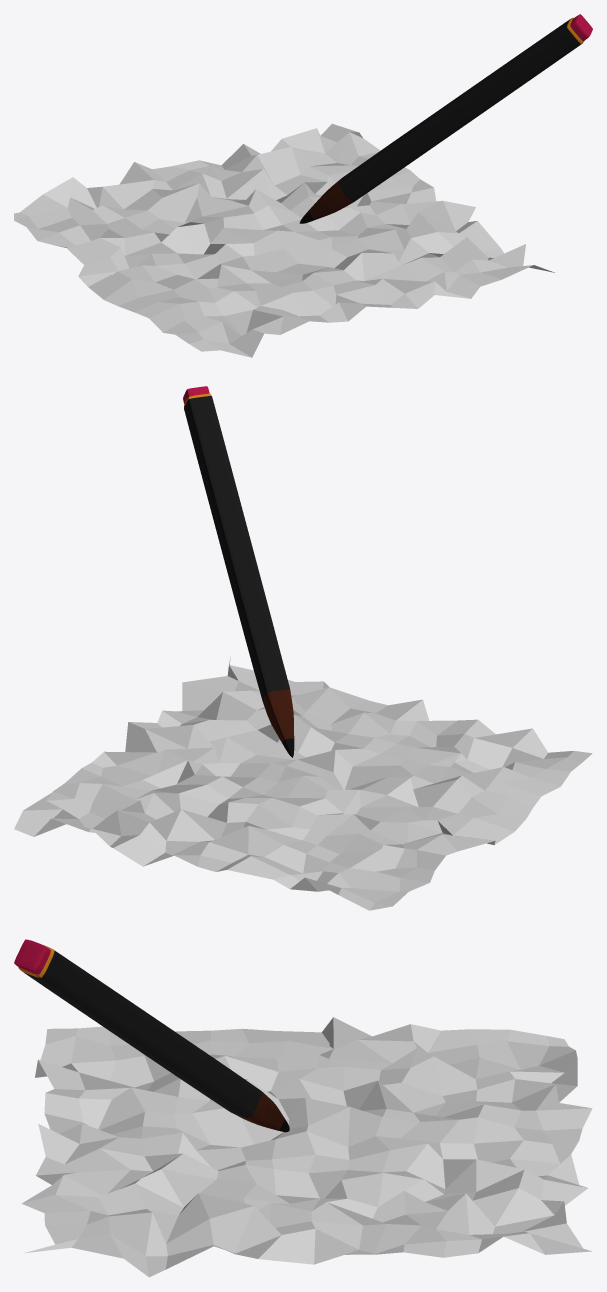
File: PencilV2.obj
3 renders of one model, top to bottom at view 1: azimuth 30°, elevation 25°; view 2: azimuth 150°, elevation 25°; view 3: azimuth 270°, elevation 25°, orthographic. The views are drawn at different scales.
Parts seen in each view (by area): view 1: Plane, Cube_Cube.001; view 2: Plane, Cube_Cube.001; view 3: Plane, Cube_Cube.001.
Boxes of the visible parts, <box> form: Plane: <box>14,123,554,357</box>; Cube_Cube.001: <box>299,14,592,223</box>; Plane: <box>14,658,592,910</box>; Cube_Cube.001: <box>183,386,294,757</box>; Plane: <box>21,1017,592,1277</box>; Cube_Cube.001: <box>14,939,289,1132</box>.
Bounding box in the file's own units: 11.49 × 7.22 × 10.7.
